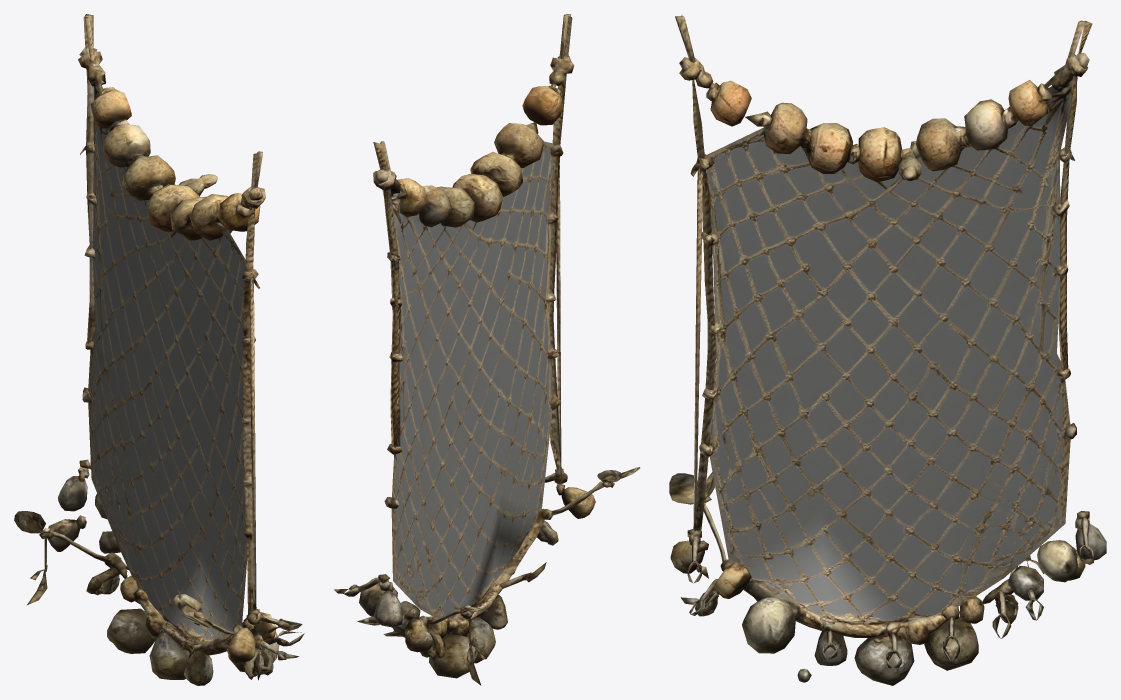
3 renders of one model, left to right at view 1: azimuth 30°, elevation 25°; view 2: azimuth 150°, elevation 25°; view 3: azimuth 270°, elevation 25°, orthographic. The views are drawn at different scales.
Parts seen in each view (by area): view 1: tripo_node_9220441d-2e4a-4391-93a8-c7ee17517e84; view 2: tripo_node_9220441d-2e4a-4391-93a8-c7ee17517e84; view 3: tripo_node_9220441d-2e4a-4391-93a8-c7ee17517e84.
Part boxes in pixels (x1,y1,x2,y2): tripo_node_9220441d-2e4a-4391-93a8-c7ee17517e84: [14, 14, 304, 685]; tripo_node_9220441d-2e4a-4391-93a8-c7ee17517e84: [334, 14, 640, 685]; tripo_node_9220441d-2e4a-4391-93a8-c7ee17517e84: [669, 15, 1106, 685].
Bounding box in the file's own units: 0.248 × 0.998 × 0.5996.
Materials: 1 (1 with a texture image).
